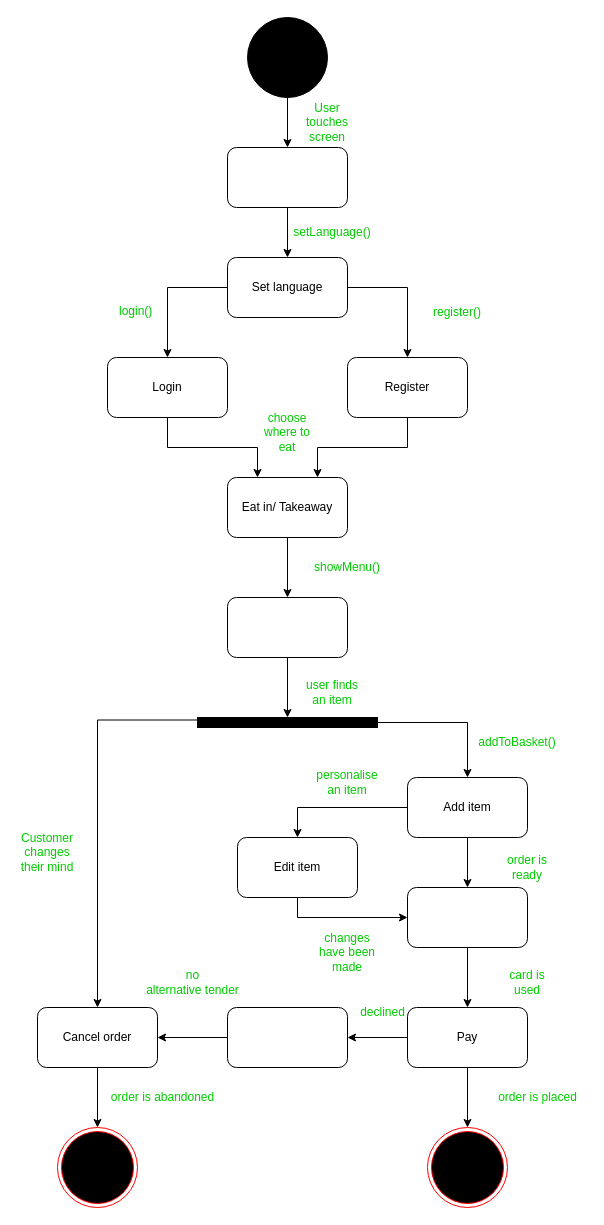
Image size: 604x1225. Some labels were removed from this diagram. The shapes that lost their labels are listed below. From the top down, each one's centre as x and y in pixels, then its label:
At (287,177): "Activate screen".
At (287,627): "Browse menu".
At (467,917): "Place order".
At (287,1037): "Card declined".
